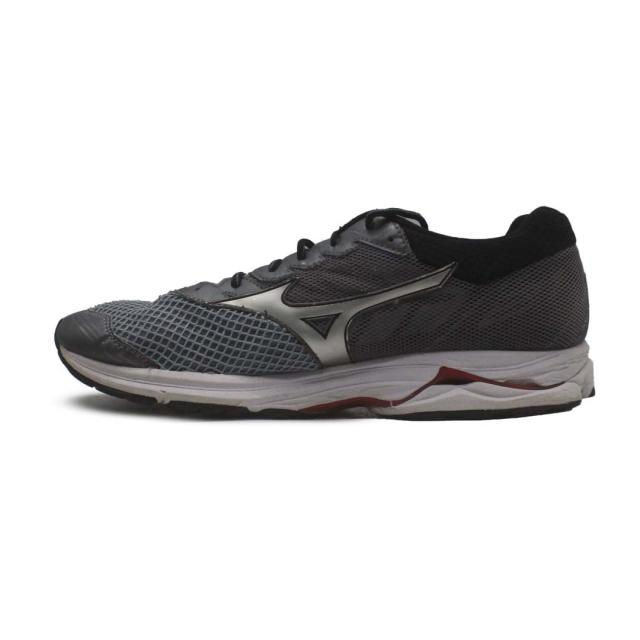heel: (497, 210, 588, 349)
midsole: (57, 342, 598, 417)
uppersole: (55, 208, 521, 379)
